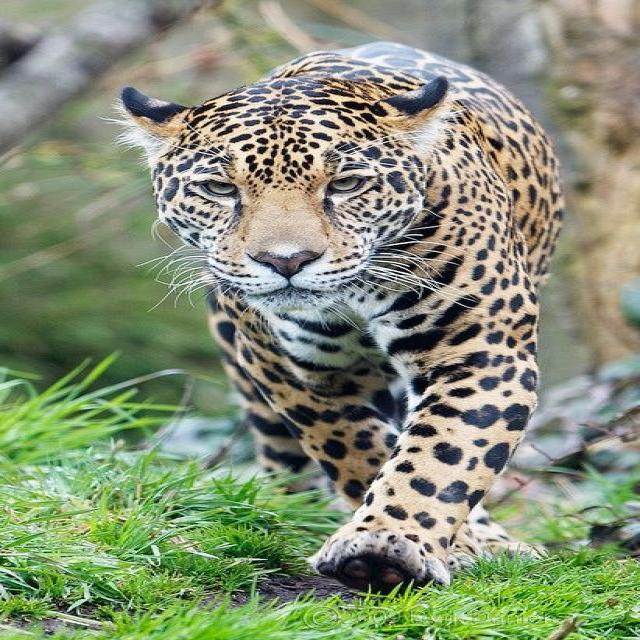Jaguar: (110, 35, 556, 585)
